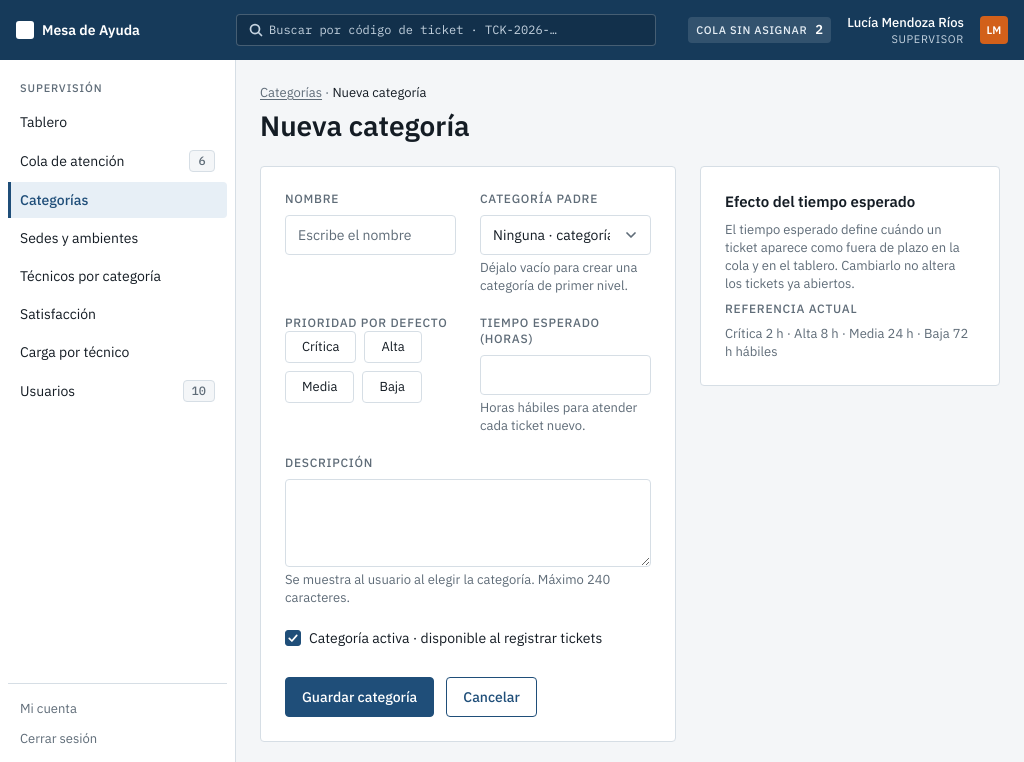
Scenario: CategoriaFormPage · nueva › con una categoría padre crea una subcategoría
Expected: the heading "Nueva categoría" is shown, [260, 110, 470, 142]
Expected: the text "Cola sin asignar" is shown, [696, 22, 807, 38]
Select "Audiovisuales" in the dropdown labelled "Categoría padre": (566, 235) [480, 215, 651, 255]
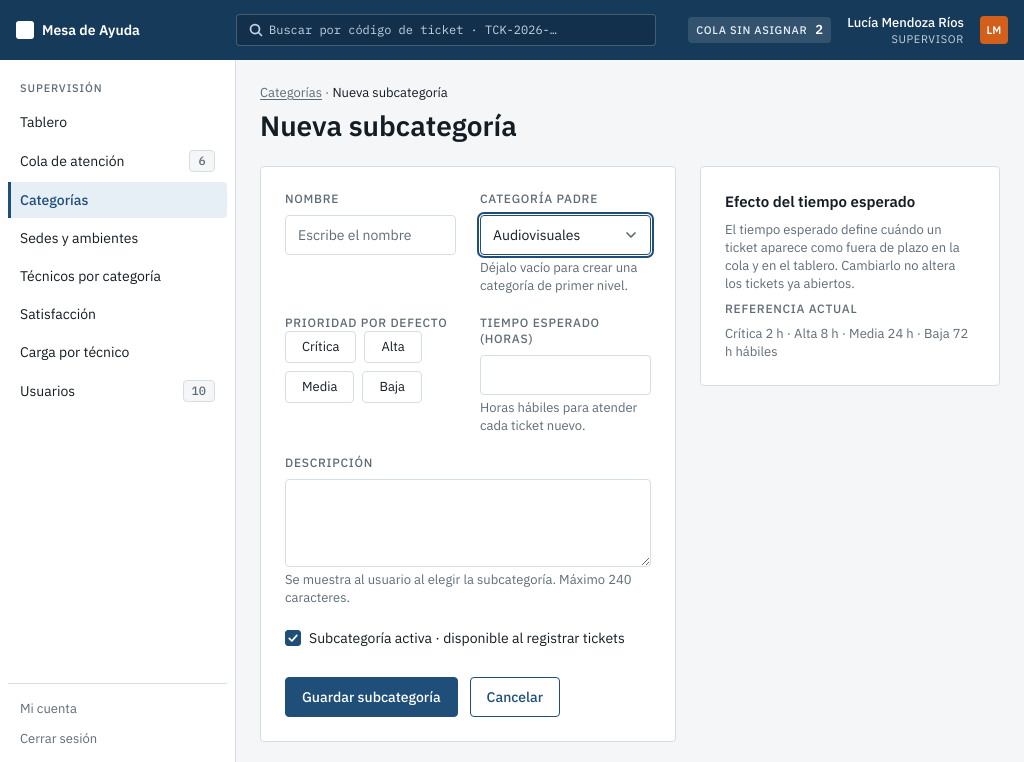
Expected: the checkbox labelled "Subcategoría activa · disponible al registrar tickets" is checked, [285, 630, 301, 646]
Expected: the heading "Nueva subcategoría" is shown, [260, 110, 517, 142]
In the field labelled "Nombre": (370, 235) [285, 215, 456, 255], type "Cable HDMI"
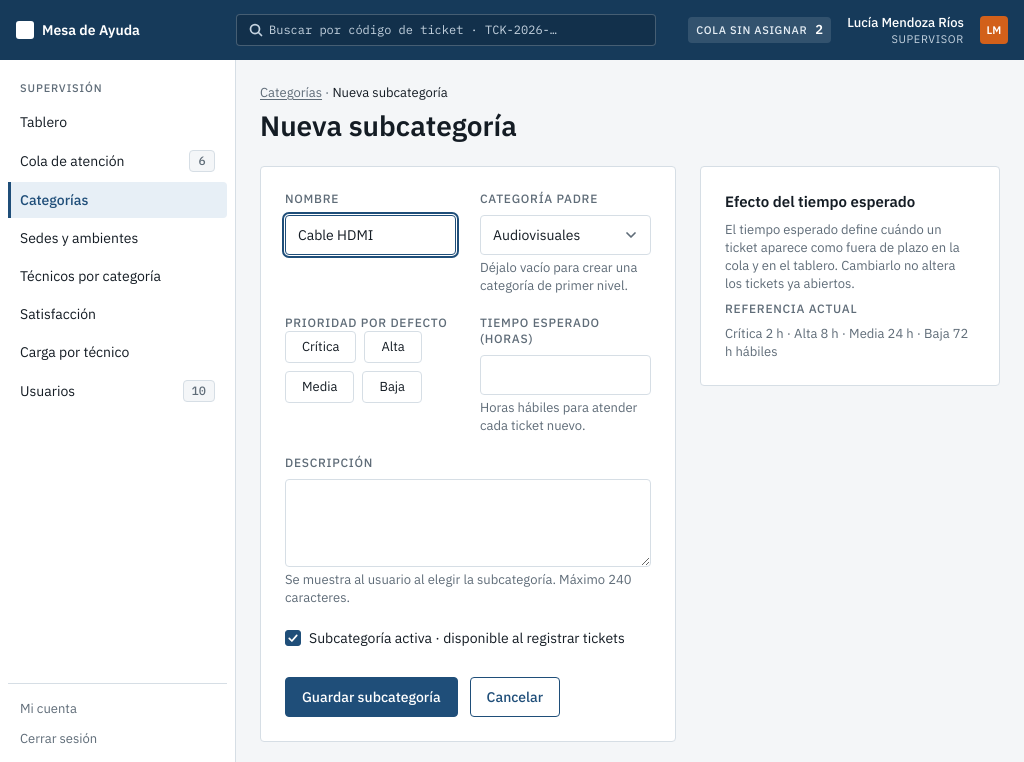
Click the radio button labelled "Alta": click(393, 347) [364, 331, 422, 363]
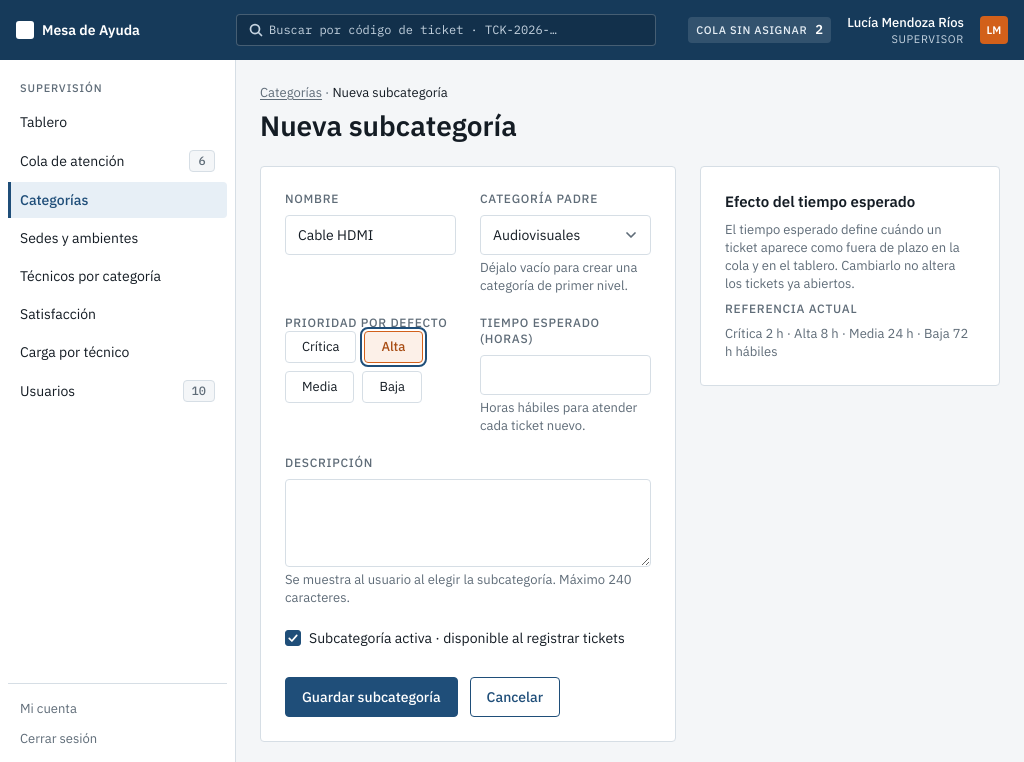
In the field labelled "Tiempo esperado (horas)": (566, 375) [480, 355, 651, 395], type "4"
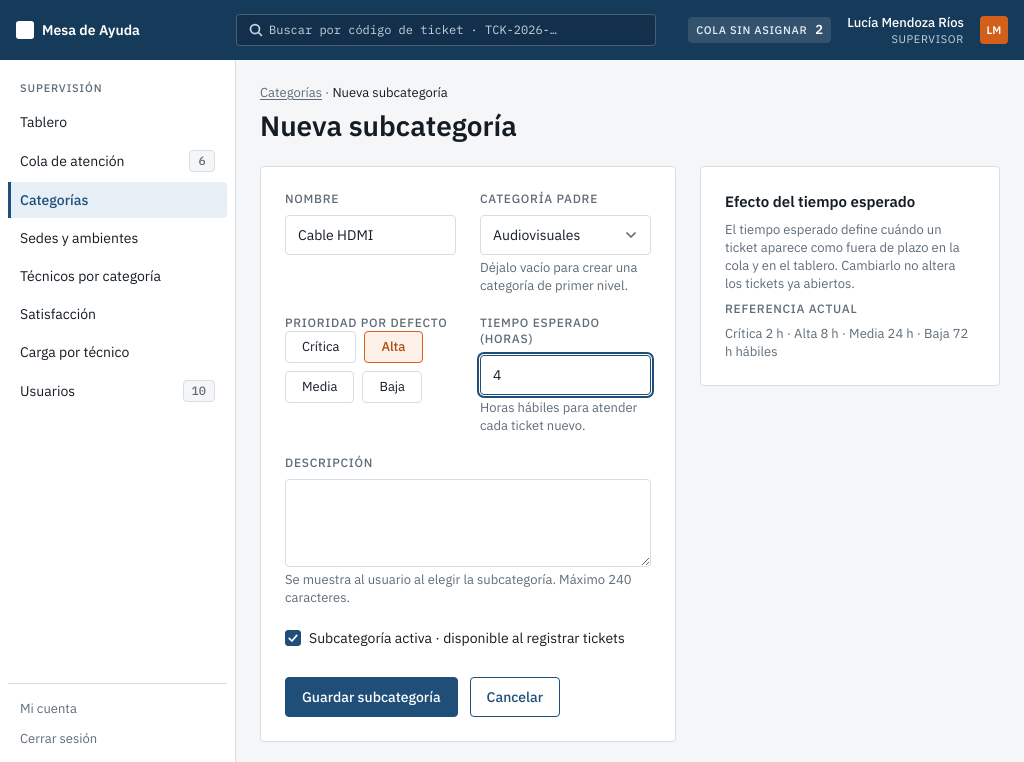
Click the button "Guardar subcategoría": click(371, 697) [285, 677, 458, 717]
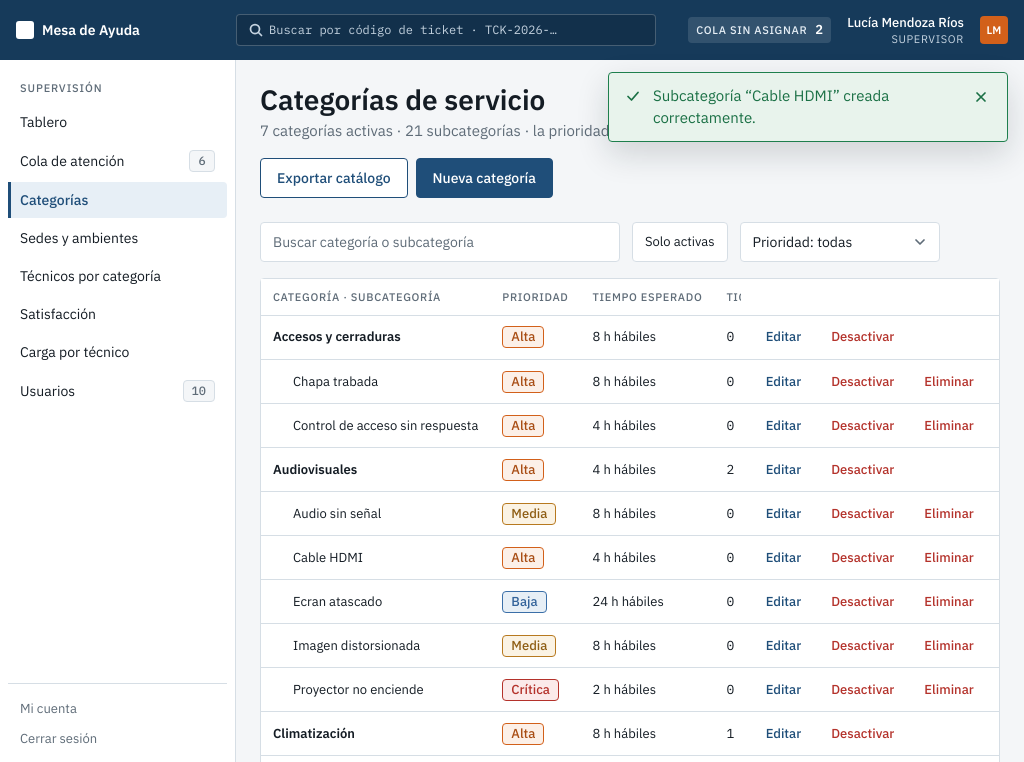
Expected: the text "Subcategoría “Cable HDMI” creada correctamente." is shown, [652, 85, 889, 127]
Expected: the column heading named "Cable HDMI (subcategoría de Audiovisuales)" is shown, [261, 536, 490, 580]
